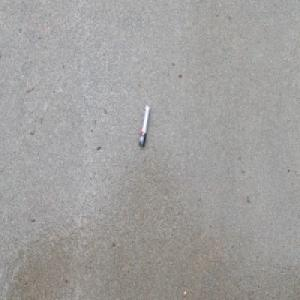Battery: (138, 104, 151, 148)
